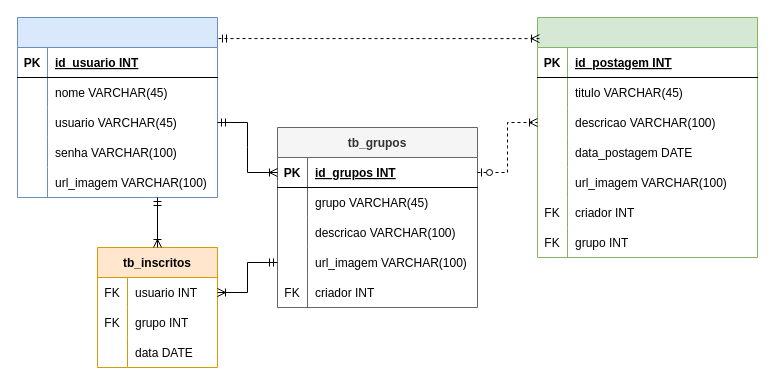
Some shapes in this 775 by 385 pixel diagram are drawn without their labels. The box of each missing label's shape, as (x1, y1, x2, y2) in pixels:
tb_postagem: (536, 16, 758, 258)
tb_usuarios: (16, 16, 218, 198)
